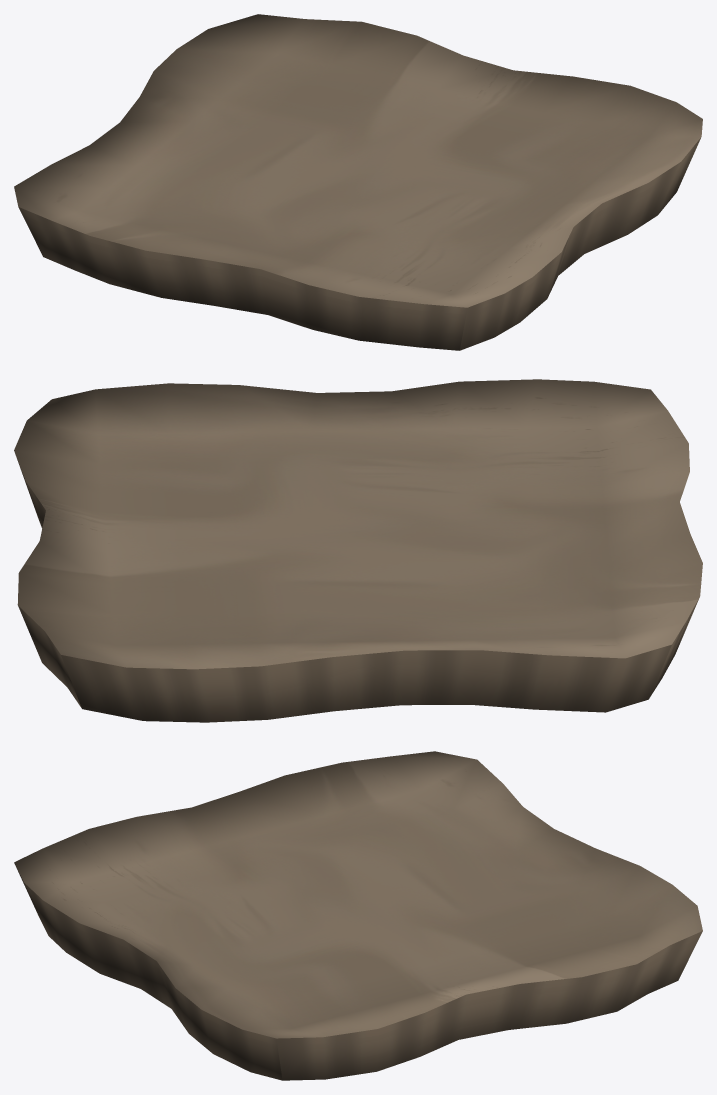
The model's file is slab_small.fbx.
3 views of the same model, one above another, from view 1: azimuth 30°, elevation 25°; view 2: azimuth 150°, elevation 25°; view 3: azimuth 270°, elevation 25° (orthographic). The views are drawn at different scales.
Visible parts, largest first — view 1: slab_small; view 2: slab_small; view 3: slab_small.
Part boxes in pixels (box(x1,y1,x2,y2)): slab_small: box(14, 14, 702, 350); slab_small: box(14, 379, 702, 722); slab_small: box(14, 751, 702, 1080).
Bounding box in the file's own units: 11.75 × 1 × 11.91.
1 material, 1 textured.
